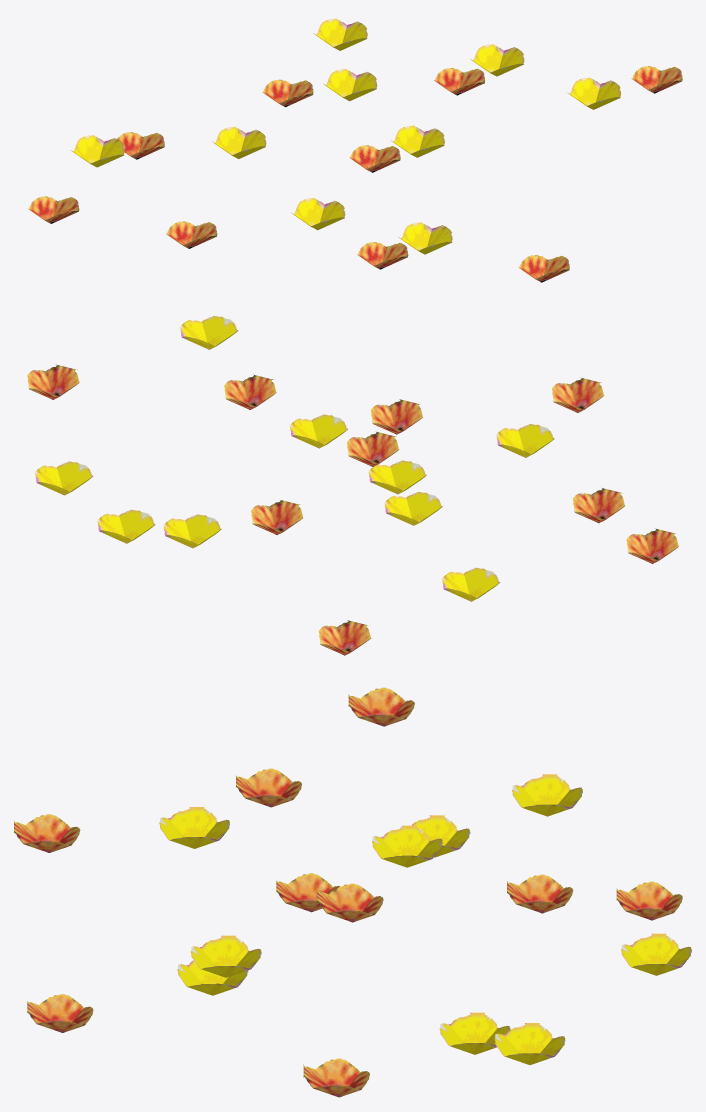
Rendered from xiaohua2.fbx.
3 renders of one model, top to bottom at view 1: azimuth 30°, elevation 25°; view 2: azimuth 150°, elevation 25°; view 3: azimuth 270°, elevation 25°, orthographic. The views are drawn at different scales.
Visible parts, largest first — view 1: xiaohua2; view 2: xiaohua2; view 3: xiaohua2.
Part boxes in pixels (x1=…): xiaohua2: x1=28, y1=18, x2=682, y2=282; xiaohua2: x1=27, y1=316, x2=678, y2=655; xiaohua2: x1=14, y1=687, x2=691, y2=1097.
Size of the model in its own units: 379 by 68.42 by 271.
Materials: 1 (1 with a texture image).
